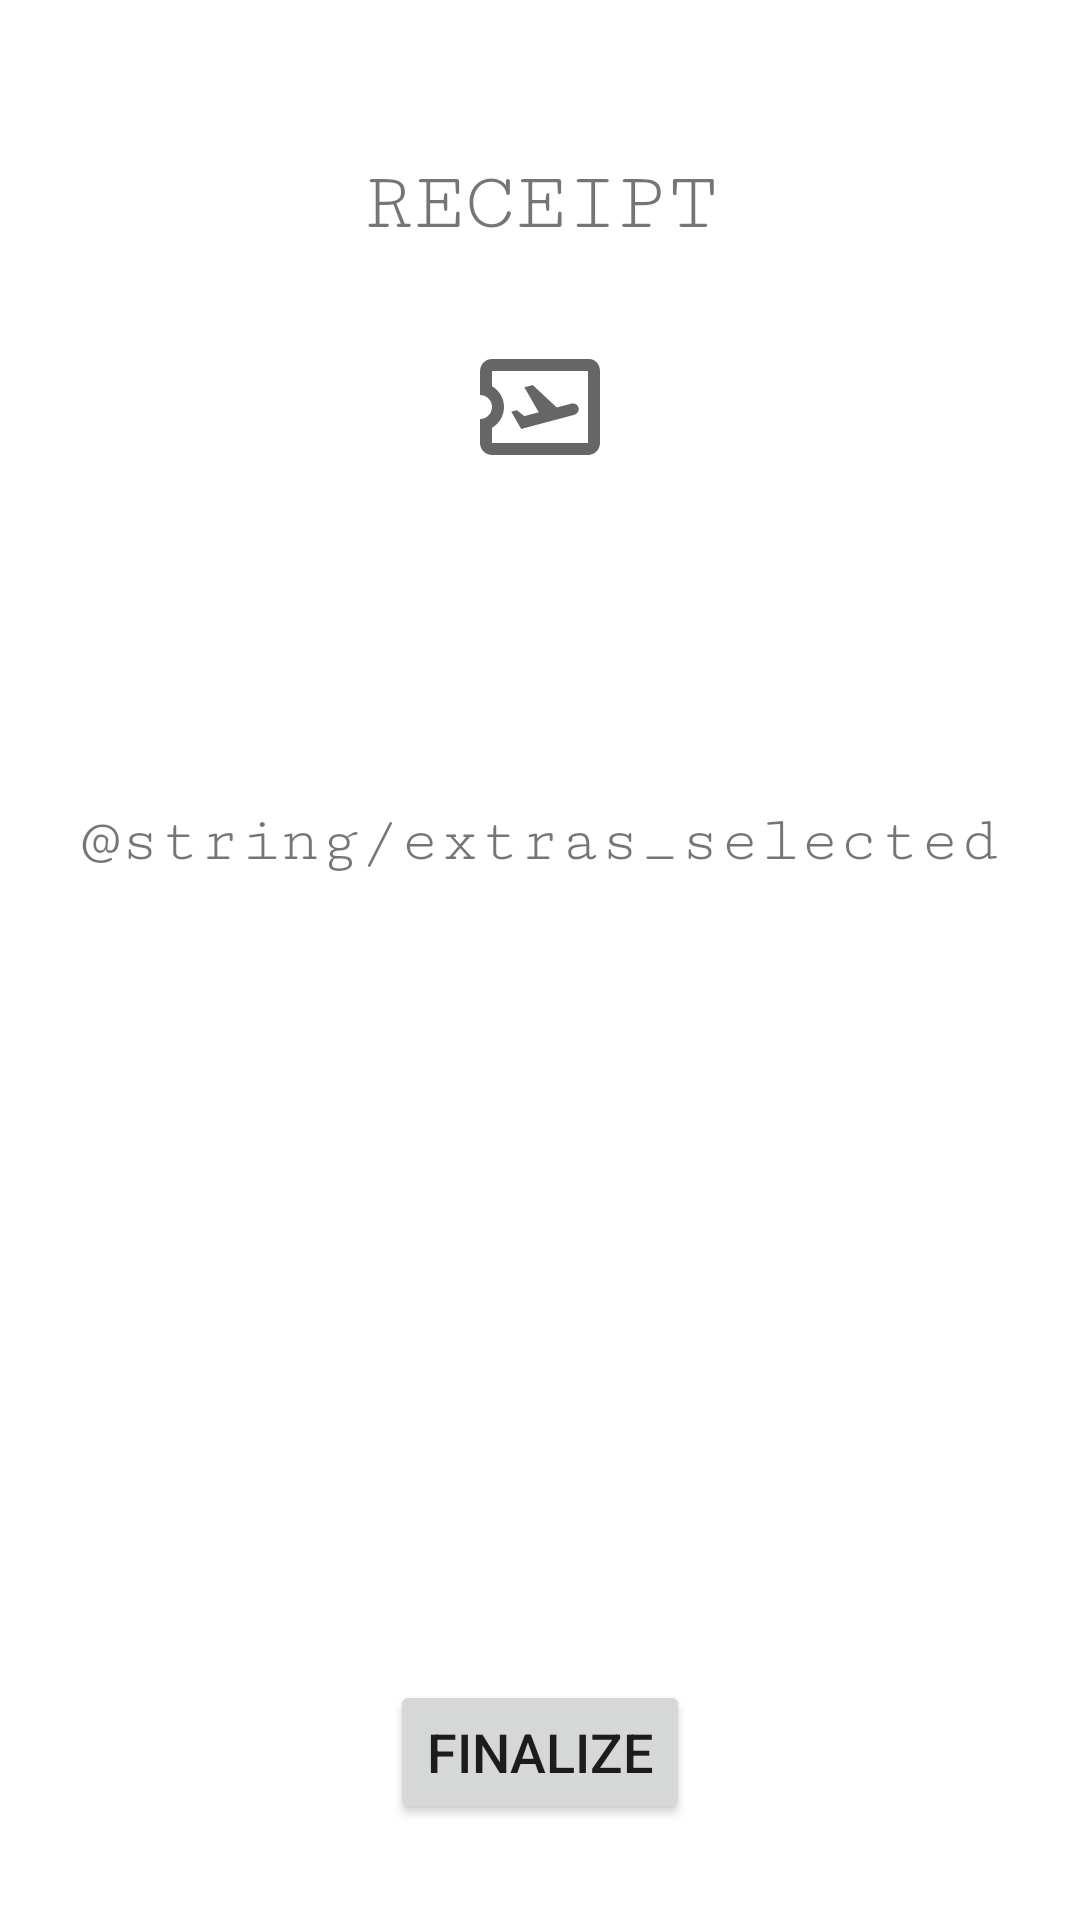

Named icons in this screenshot (1080 × 1920) and their bounding boxes, bbox=(x1, y1, x2, y2):
plane: bbox=(480, 359, 600, 455)
